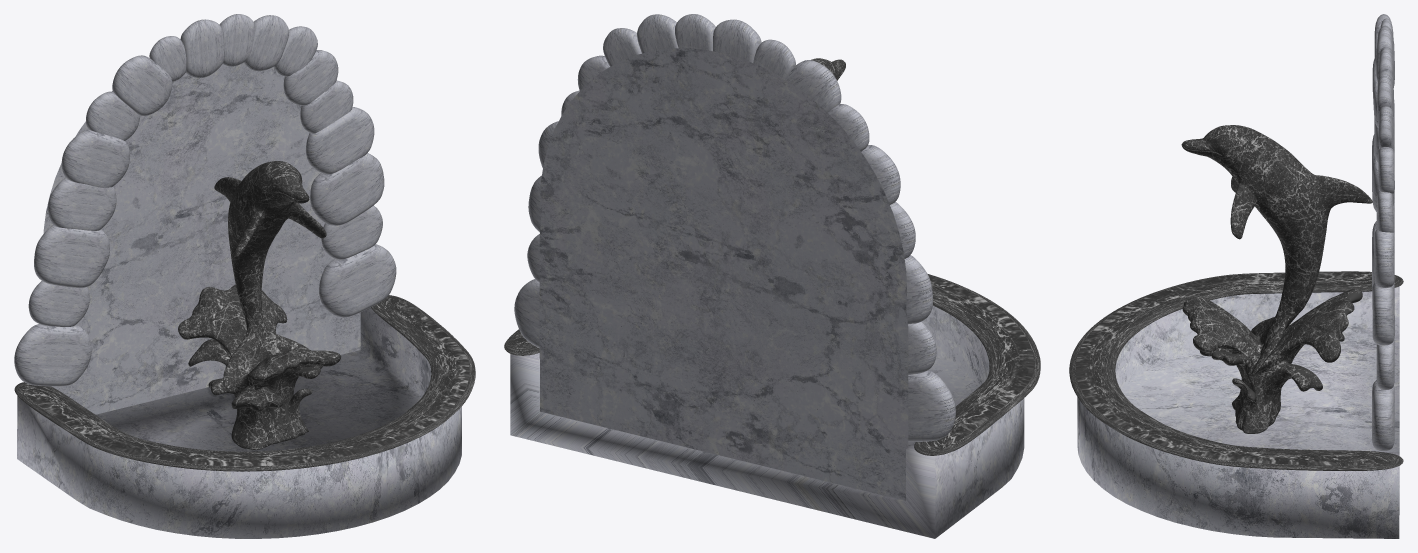
The model's file is dolphin_sculpture.glb.
3 renders of one model, left to right at view 1: azimuth 30°, elevation 25°; view 2: azimuth 150°, elevation 25°; view 3: azimuth 270°, elevation 25°, orthographic. The views are drawn at different scales.
Parts seen in each view (by area): view 1: object 3, object 1, 13182_LeapingDolphinStatue_v1_NEW__13182_LeapingDolphinStatu (×4), object 2, Plano, Plano.012, Plano.002, Plano.014, Plano.003, Plano.015, Plano.004, Plano.006 (+10 smaller); view 2: object 3, object 1, object 2, Plano, Plano.006, Plano.008, Plano.002, Plano.012, Plano.010, Plano.001, Plano.009, Plano.003 (+4 smaller); view 3: object 1, 13182_LeapingDolphinStatue_v1_NEW__13182_LeapingDolphinStatu (×4), object 2, Plano.012, Plano.014, Plano.015, Plano.013, Plano.017, Plano.016, Plano.010, Plano.011, Plano.008 (+1 smaller).
Boxes of the visible parts, x1=… form: object 3: x1=43, y1=62, x2=360, y2=414; object 1: x1=17, y1=307, x2=461, y2=538; 13182_LeapingDolphinStatue_v1_NEW__13182_LeapingDolphinStatu (×4): x1=178, y1=161, x2=341, y2=449; object 2: x1=14, y1=295, x2=475, y2=471; Plano: x1=14, y1=324, x2=91, y2=386; Plano.012: x1=319, y1=244, x2=396, y2=317; Plano.002: x1=34, y1=224, x2=109, y2=287; Plano.014: x1=310, y1=153, x2=384, y2=225; Plano.003: x1=61, y1=129, x2=129, y2=187; Plano.015: x1=306, y1=107, x2=374, y2=174; Plano.004: x1=48, y1=177, x2=116, y2=230; Plano.006: x1=112, y1=55, x2=172, y2=115; object 3: x1=539, y1=48, x2=908, y2=500; object 1: x1=510, y1=305, x2=1024, y2=538; object 2: x1=504, y1=274, x2=1040, y2=455; Plano: x1=908, y1=370, x2=955, y2=441; Plano.006: x1=786, y1=60, x2=841, y2=112; Plano.008: x1=713, y1=19, x2=761, y2=62; Plano.002: x1=904, y1=255, x2=933, y2=323; Plano.012: x1=514, y1=279, x2=539, y2=348; Plano.010: x1=637, y1=14, x2=678, y2=53; Plano.001: x1=908, y1=321, x2=936, y2=374; Plano.009: x1=675, y1=14, x2=715, y2=51; Plano.003: x1=861, y1=145, x2=900, y2=204; object 1: x1=1077, y1=286, x2=1399, y2=538; 13182_LeapingDolphinStatue_v1_NEW__13182_LeapingDolphinStatu (×4): x1=1181, y1=125, x2=1372, y2=433; object 2: x1=1069, y1=271, x2=1403, y2=470; Plano.012: x1=1372, y1=380, x2=1394, y2=451; Plano.014: x1=1372, y1=282, x2=1394, y2=345; Plano.015: x1=1374, y1=229, x2=1394, y2=287; Plano.013: x1=1376, y1=340, x2=1394, y2=389; Plano.017: x1=1378, y1=147, x2=1394, y2=194; Plano.016: x1=1377, y1=191, x2=1393, y2=232; Plano.010: x1=1377, y1=70, x2=1393, y2=124; Plano.011: x1=1378, y1=106, x2=1393, y2=149; Plano.008: x1=1376, y1=25, x2=1393, y2=82.
Bounding box in the file's own units: 2.47 × 2.41 × 1.76.
Materials: 5 (5 with a texture image).
